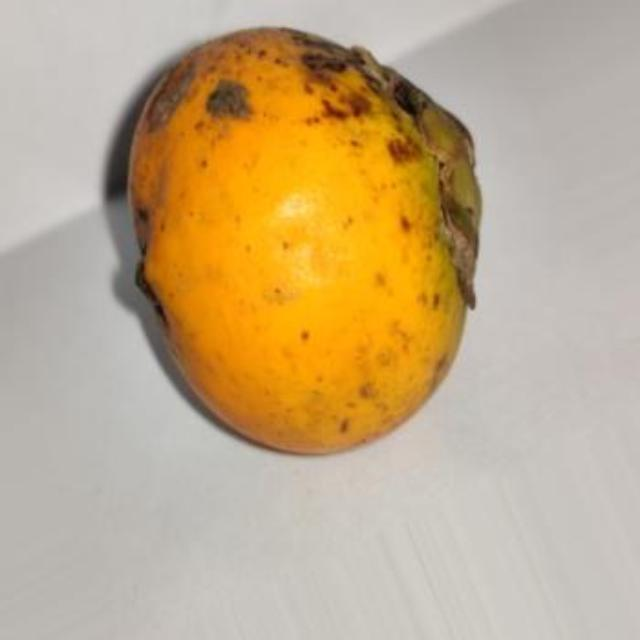good: (124, 27, 481, 455)
